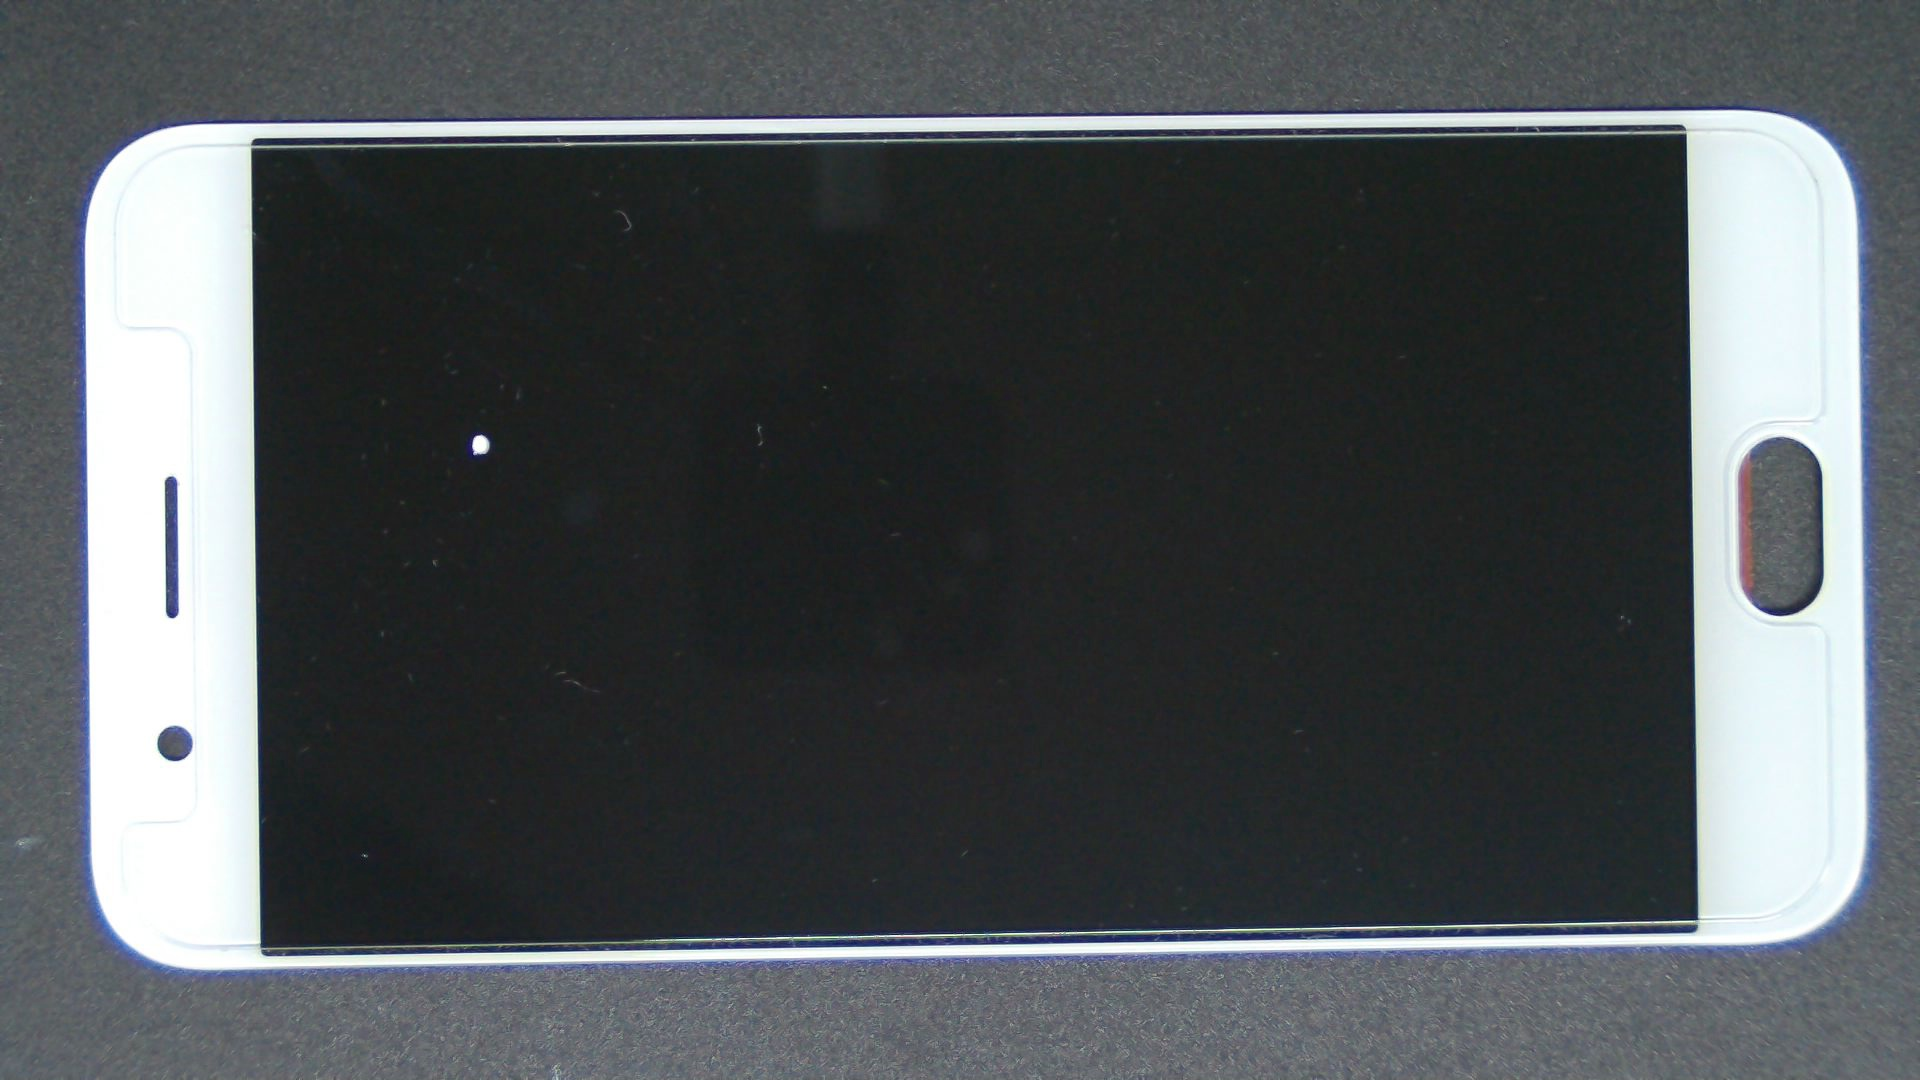oil: (241, 216, 721, 650)
